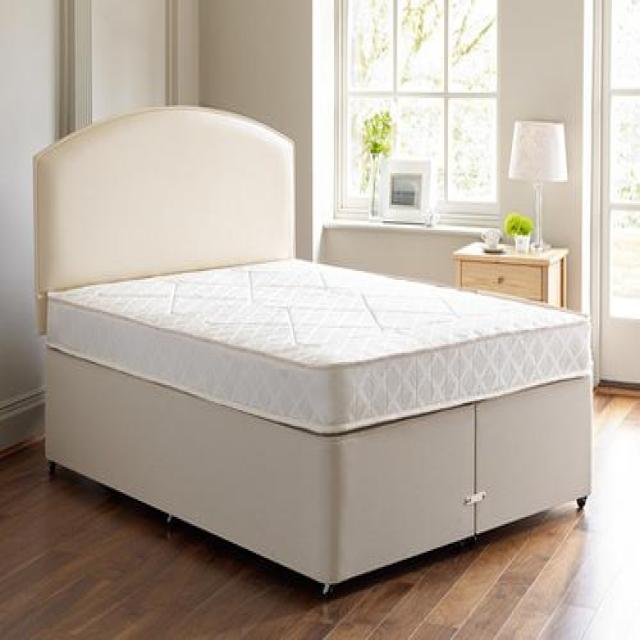bed: (31, 100, 594, 603)
